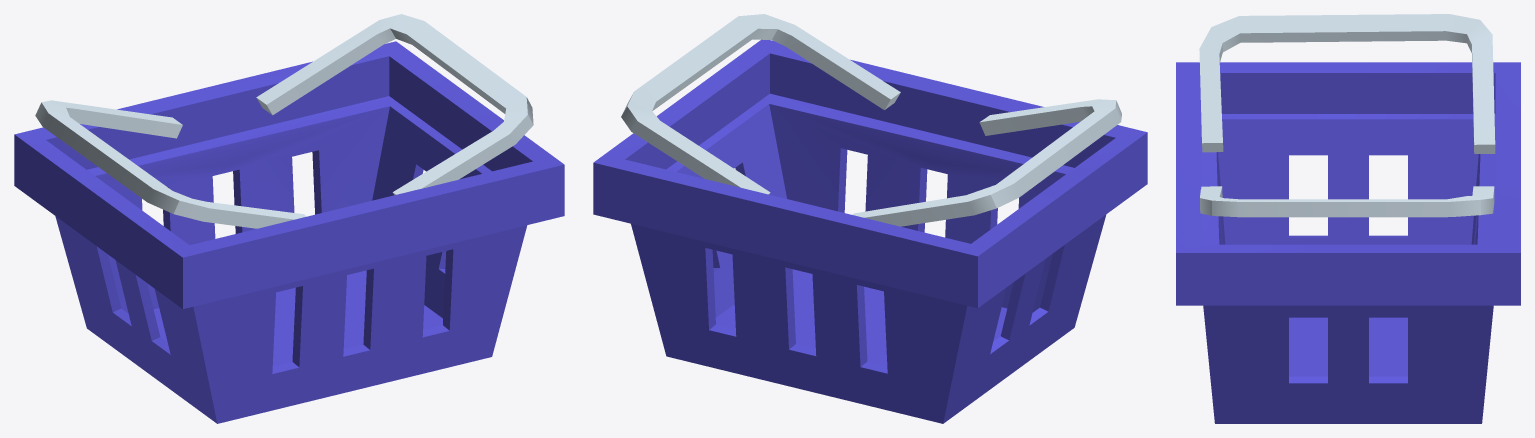
File: ShoppingCart4.fbx
3 views of the same model, side by side, from view 1: azimuth 30°, elevation 25°; view 2: azimuth 150°, elevation 25°; view 3: azimuth 270°, elevation 25° (orthographic). The views are drawn at different scales.
Parts seen in each view (by area): view 1: polySurface4; view 2: polySurface4; view 3: polySurface4.
Part boxes in pixels (x1,y1,x2,y2): polySurface4: (14, 14, 564, 423); polySurface4: (593, 14, 1147, 423); polySurface4: (1176, 14, 1520, 423).
Bounding box in the file's own units: 14.71 × 8.7 × 11.06.
